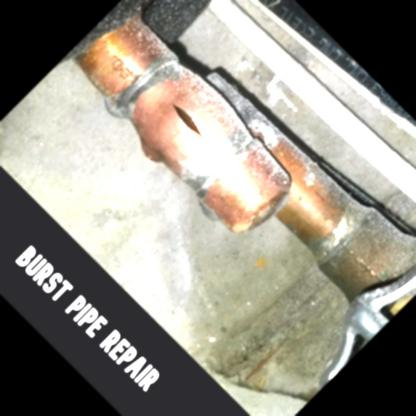burst: (170, 101, 206, 139)
